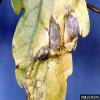Potato leaf early blight: (13, 10, 92, 99)
